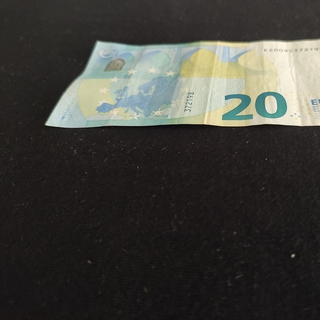20EUROBack: (44, 36, 320, 127)
